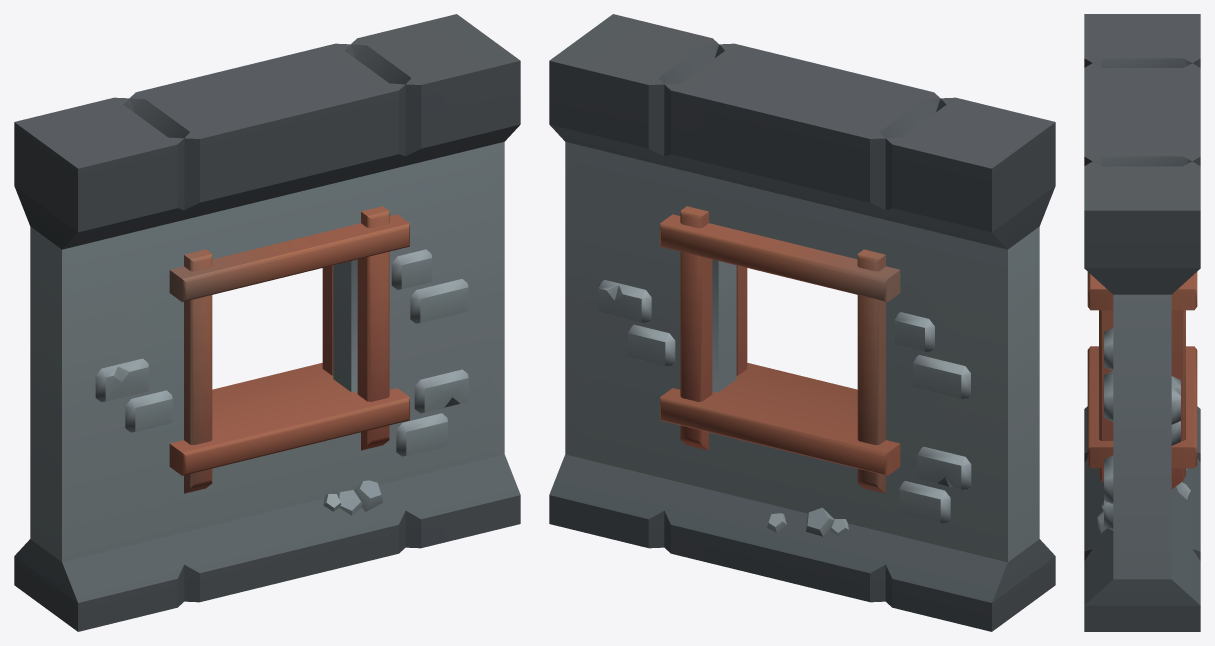
The model's file is wall_window_open.glb.
3 renders of one model, left to right at view 1: azimuth 30°, elevation 25°; view 2: azimuth 150°, elevation 25°; view 3: azimuth 270°, elevation 25°, orthographic. The views are drawn at different scales.
Parts seen in each view (by area): view 1: wall_window_open; view 2: wall_window_open; view 3: wall_window_open.
Boxes of the visible parts, x1,y1,x2,y2 form: wall_window_open: [14, 14, 520, 631]; wall_window_open: [549, 14, 1055, 631]; wall_window_open: [1084, 14, 1200, 631].
Size of the model in its own units: 4 by 4 by 1.
1 material, 1 textured.
